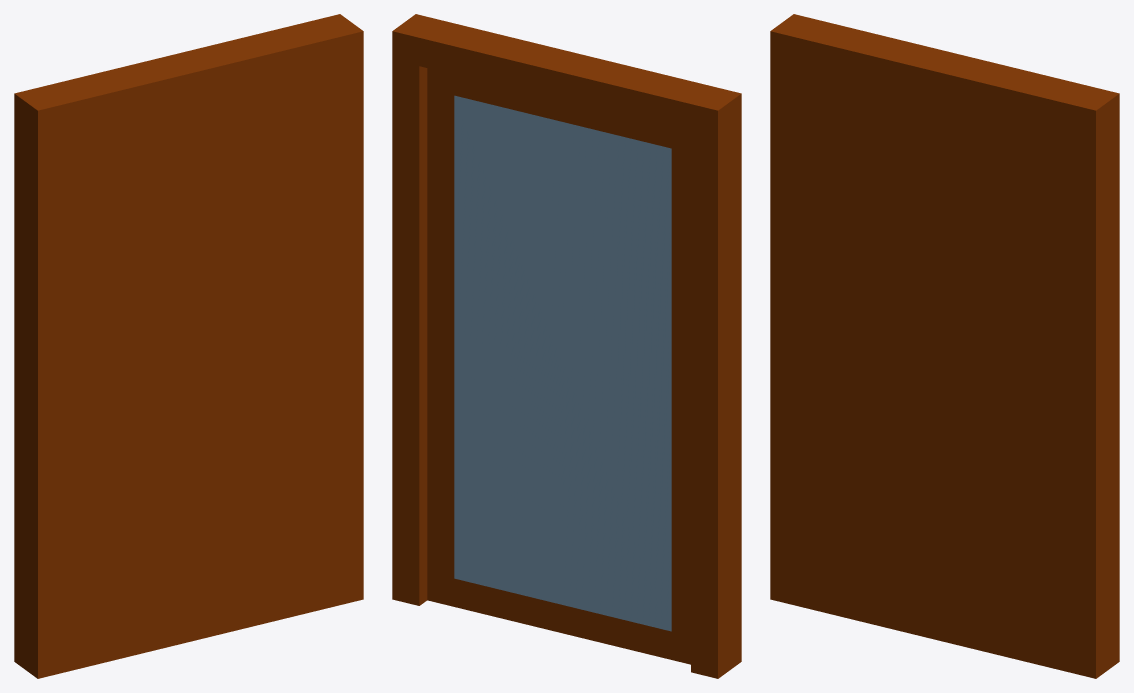
The model's file is BigWindowDoor.fbx.
3 views of the same model, side by side, from view 1: azimuth 30°, elevation 25°; view 2: azimuth 150°, elevation 25°; view 3: azimuth 330°, elevation 25° (orthographic).
Visible parts, largest first — view 1: BigWindowDoor; view 2: BigWindowDoor; view 3: BigWindowDoor.
Part boxes in pixels (x1,y1,x2,y2): BigWindowDoor: (14,14,363,678); BigWindowDoor: (392,14,741,678); BigWindowDoor: (770,14,1119,678).
Size of the model in its own units: 240 by 400 by 30.
